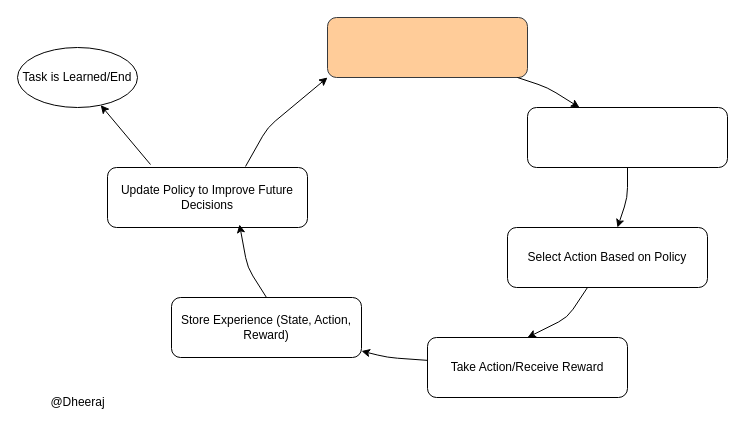
The diagram is 745 pixels wide and 435 high, and some of its shapes have lost their labels. Here are the shapes that lost their labels. From the top down, the centre of each, then its label:
At (427,47): "Initialize Policy".
At (627,137): "Observe Current State".
